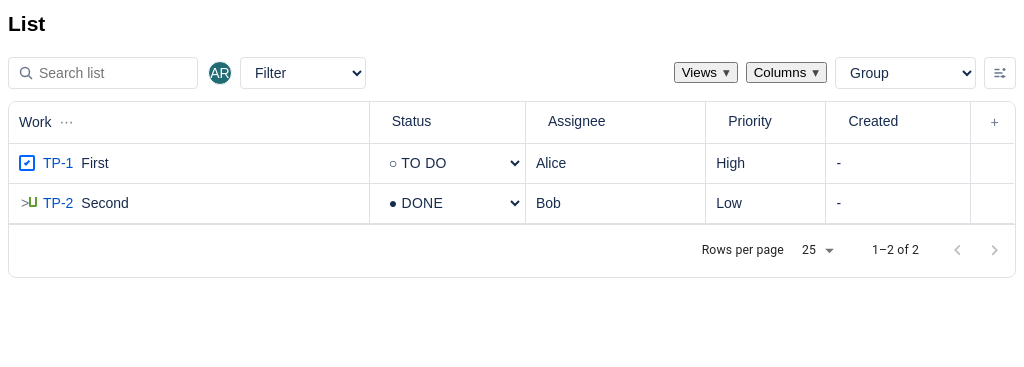
Test: JL-258 — List toolbar buttons are functional, not dead affordances › menu items actually toggle column visibility (real backing behavior)
Click the button named "Display settings" at [1000, 73], box [984,57,1016,89]
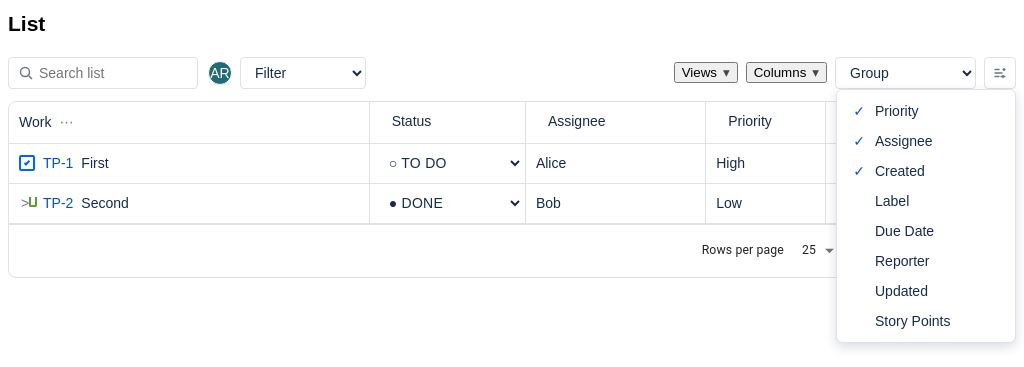
Expected: the text "Due Date" is not shown
Click the menu item "Due Date" at [926, 231], box [837,216,1015,246]
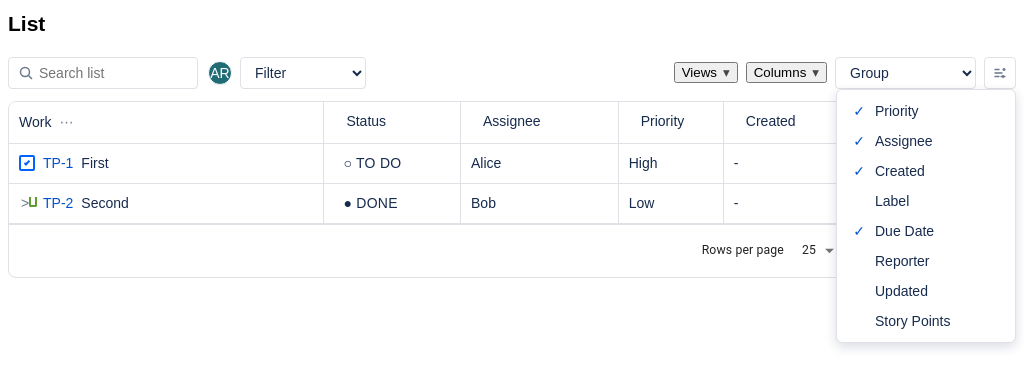
Result: the element showing "Work ⋯ Status Assignee Priority Created Due Date +" is shown at [9,102,1014,144]
